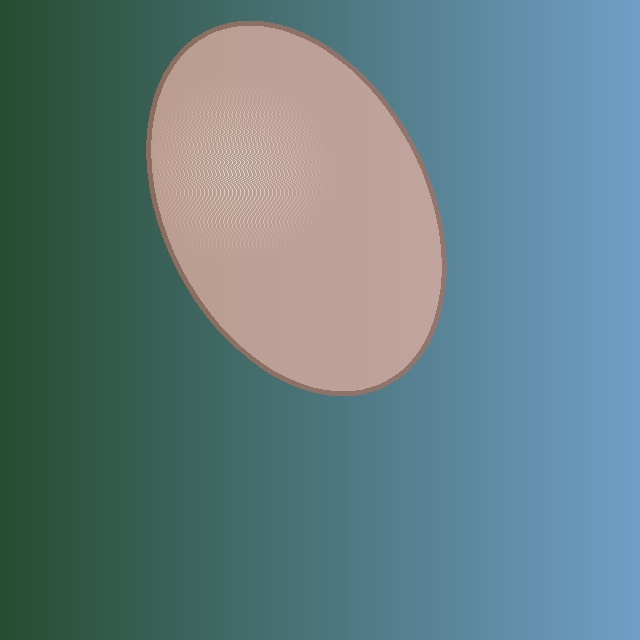lens: (149, 23, 443, 393)
